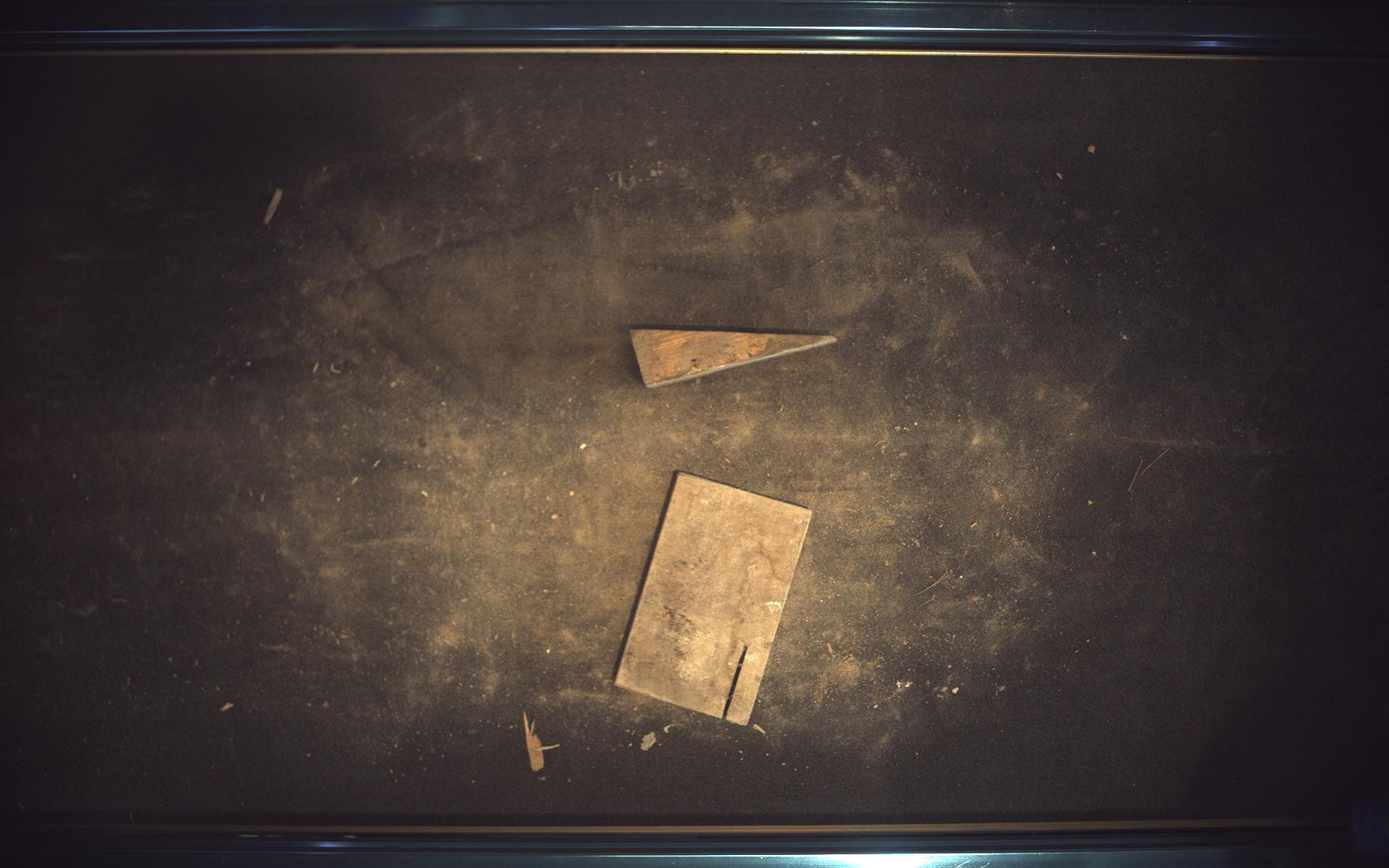wood: (616, 472, 813, 726), (631, 329, 838, 388)
